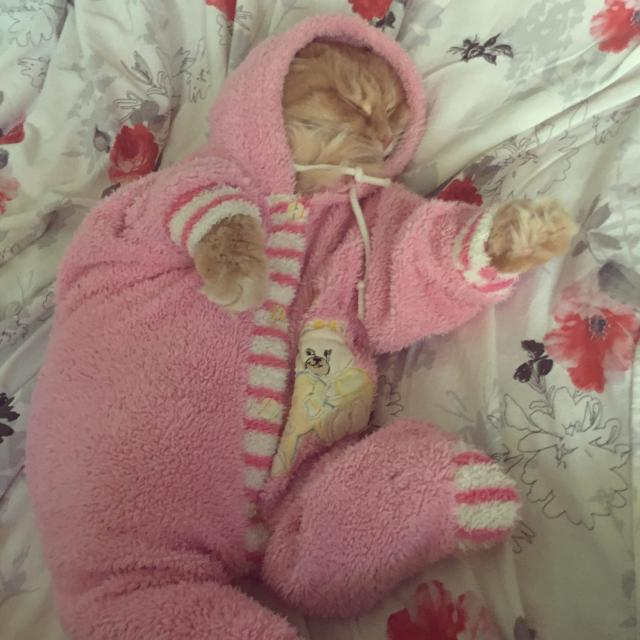Cats: (172, 30, 574, 347)
